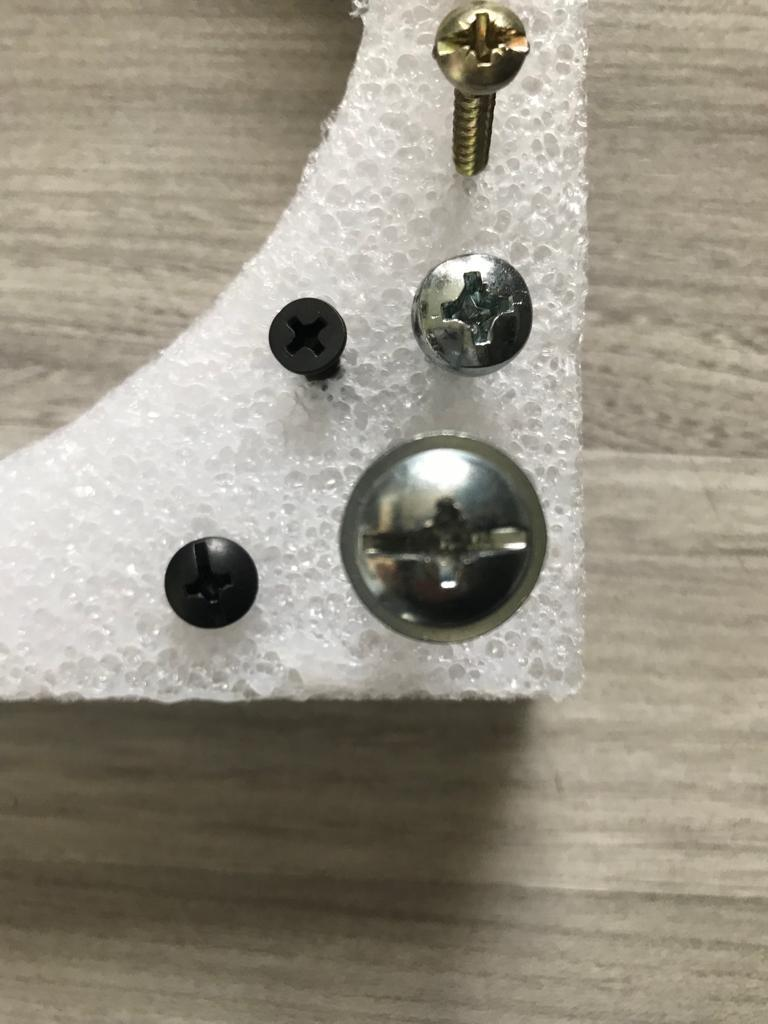PH: (338, 434, 548, 642), (410, 253, 534, 375), (165, 537, 258, 629), (433, 2, 527, 93), (268, 296, 348, 375)
